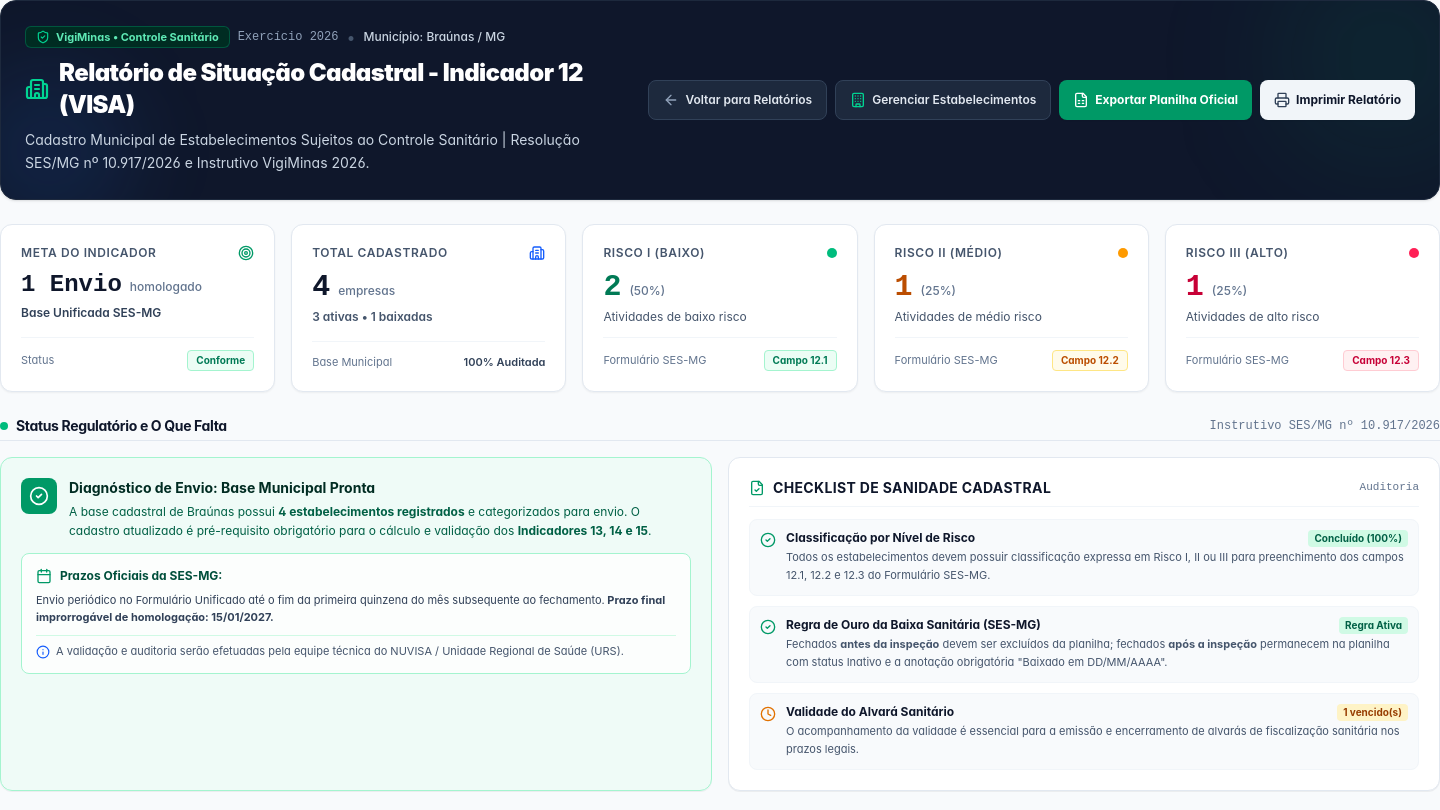
Test: RelatorioIndicador12Page (US-03 - Indicador 12 VISA) › abre o modal de exportação ao clicar em "Exportar Planilha Oficial"
The width and height of the screenshot is (1440, 810).
Click the button "Exportar Planilha Oficial" at [1156, 100], box [1059, 80, 1252, 120]
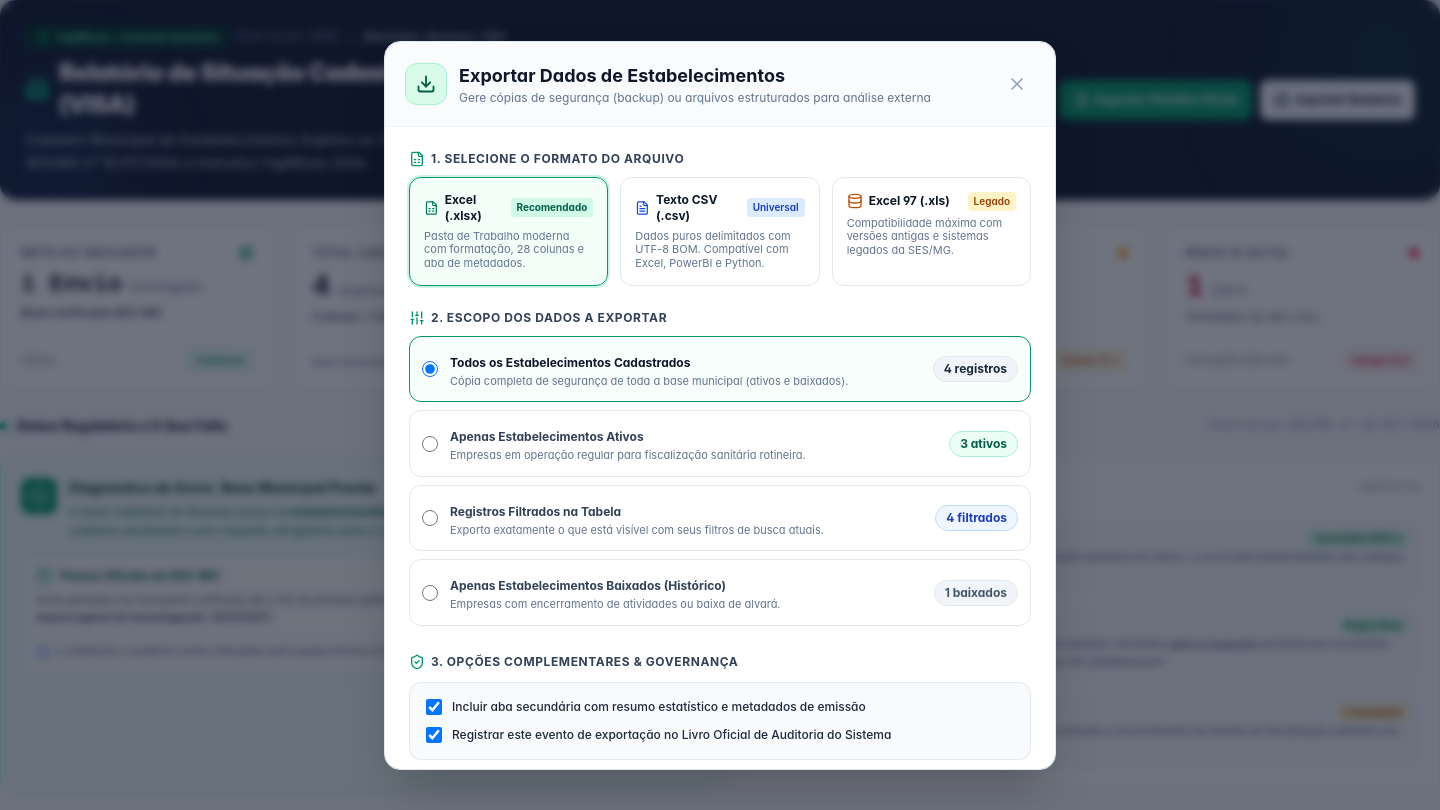
Now the heading "Exportar Dados de Estabelecimentos" is shown, box [459, 64, 785, 86]
